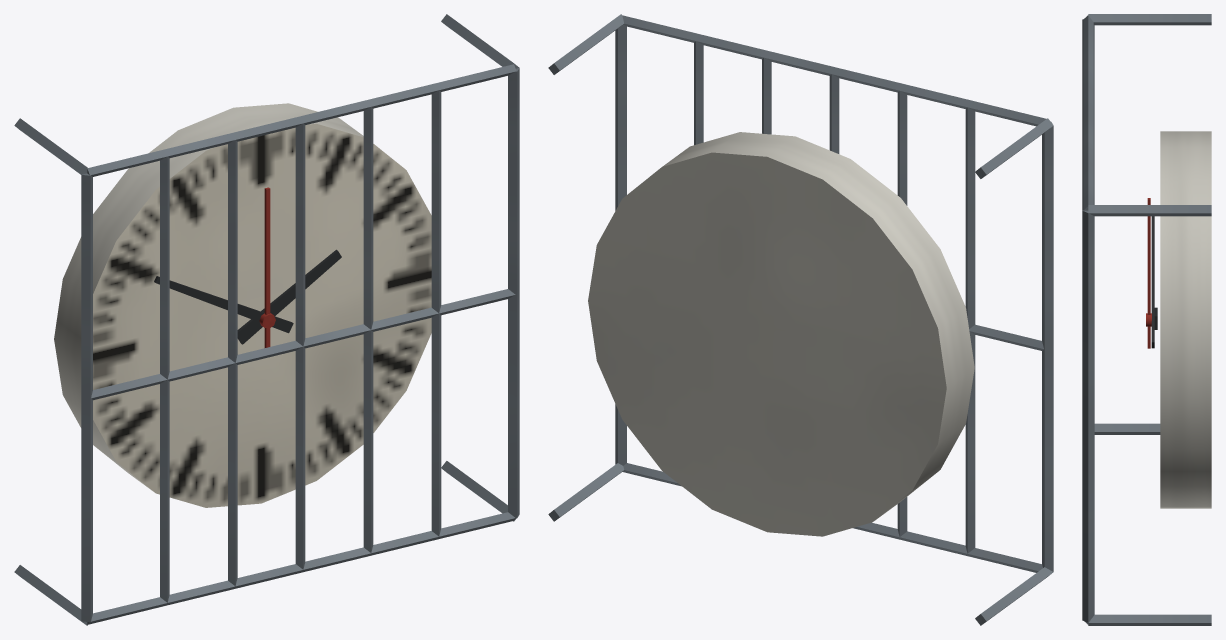
The model's file is clock_prison.fbx.
3 renders of one model, left to right at view 1: azimuth 30°, elevation 25°; view 2: azimuth 150°, elevation 25°; view 3: azimuth 270°, elevation 25°, orthographic. The views are drawn at different scales.
Parts seen in each view (by area): view 1: clock_prison, clock_prison_second; view 2: clock_prison; view 3: clock_prison, clock_prison_second.
Boxes of the visible parts, x1,y1,x2,y2 form: clock_prison: [14, 14, 519, 625]; clock_prison_second: [259, 187, 275, 347]; clock_prison: [548, 14, 1053, 625]; clock_prison: [1082, 14, 1211, 625]; clock_prison_second: [1146, 198, 1151, 348].
Bounding box in the file's own units: 0.452 × 0.452 × 0.126.
1 material, 1 textured.
